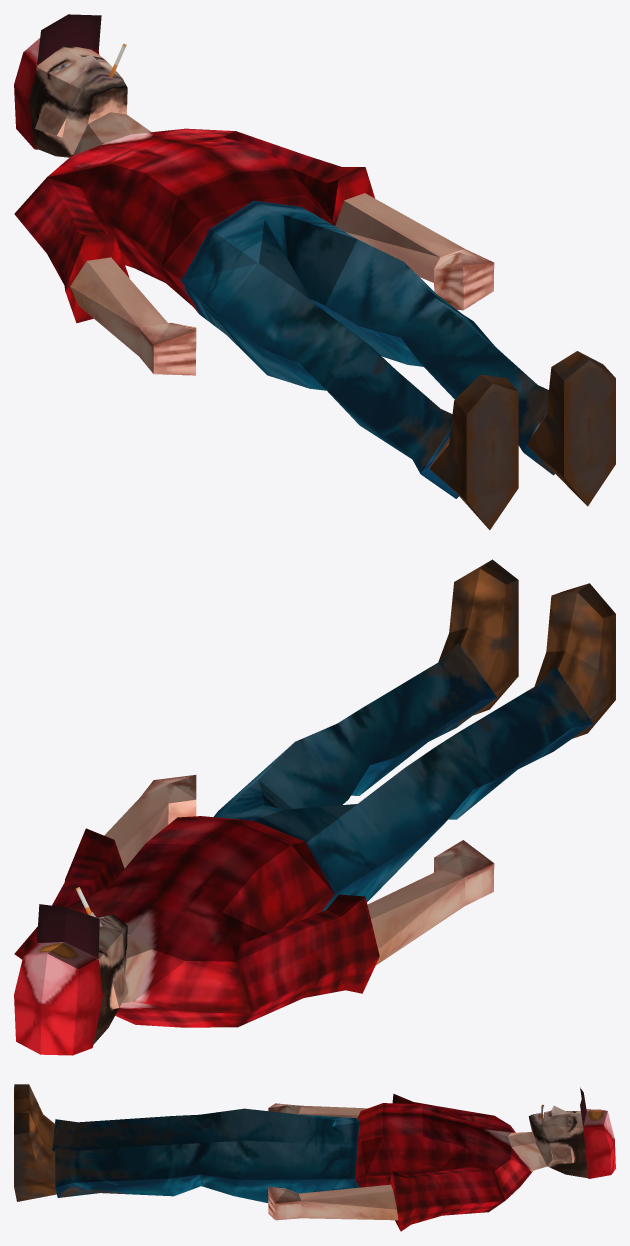
File: redneck_character_psx_style.obj
3 renders of one model, top to bottom at view 1: azimuth 30°, elevation 25°; view 2: azimuth 150°, elevation 25°; view 3: azimuth 270°, elevation 25°, orthographic. The views are drawn at different scales.
Parts seen in each view (by area): view 1: obj2, obj1; view 2: obj2, obj1; view 3: obj2, obj1.
Boxes of the visible parts, left/top/right/bottom form: obj2: left=14, top=43, right=615, bottom=530; obj1: left=14, top=14, right=101, bottom=149; obj2: left=14, top=559, right=615, bottom=1044; obj1: left=14, top=904, right=102, bottom=1055; obj2: left=14, top=1084, right=587, bottom=1231; obj1: left=580, top=1087, right=615, bottom=1178.
Bounding box in the file's own units: 0.689 × 0.3481 × 1.75.
Materials: 1 (1 with a texture image).
